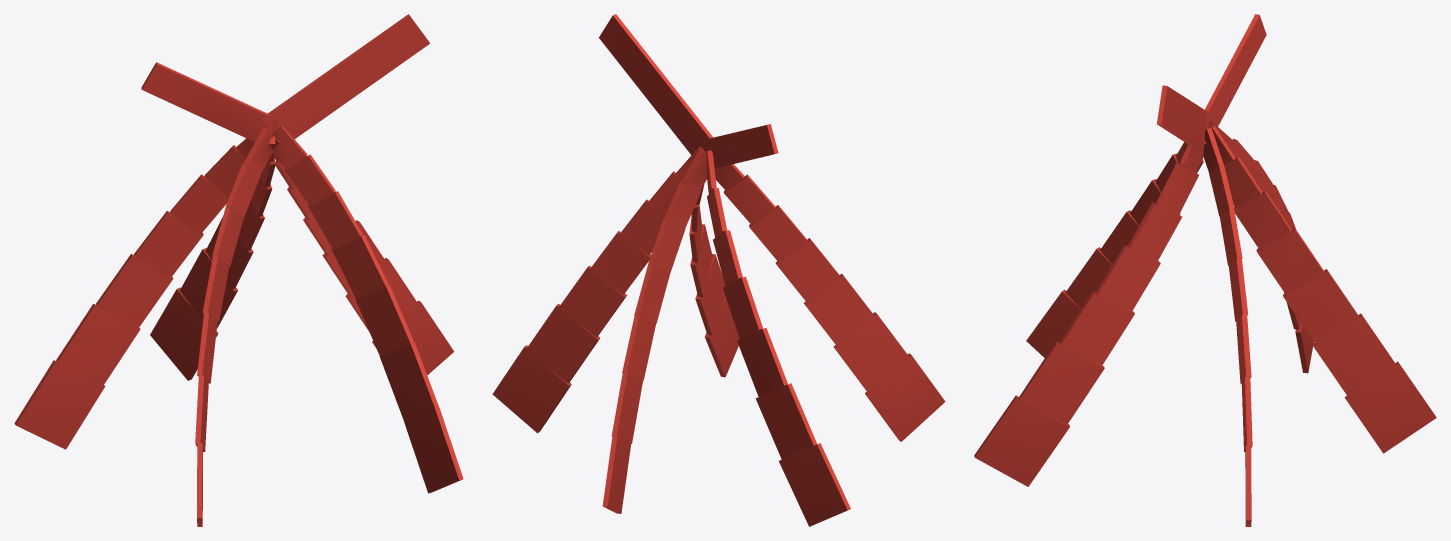
Rendered from sculpture.glb.
The picture shows the model from 3 angles, left to right: view 1: azimuth 30°, elevation 25°; view 2: azimuth 150°, elevation 25°; view 3: azimuth 270°, elevation 25°; orthographic projection. The views are drawn at different scales.
Visible parts, largest first — view 1: sculpture; view 2: sculpture; view 3: sculpture.
Boxes of the visible parts, left/top/right/bottom form: sculpture: left=14, top=14, right=463, bottom=526; sculpture: left=492, top=14, right=945, bottom=526; sculpture: left=974, top=14, right=1436, bottom=526.
Bounding box in the file's own units: 19.2 × 18.89 × 18.7.
